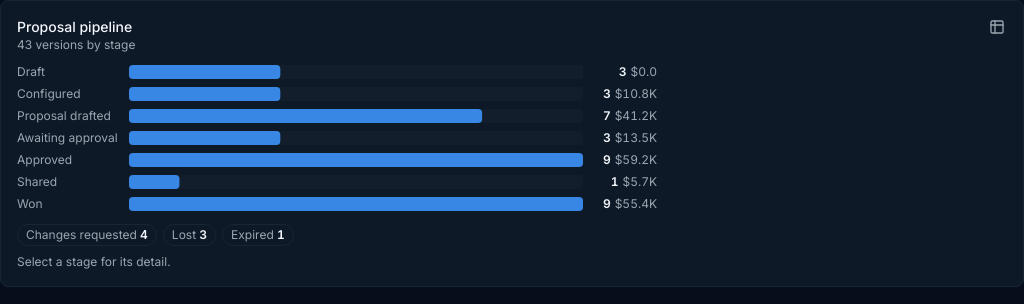
Test: StageFunnel › lists off-path outcomes as chips that can be selected
What coordinates should you click on to do the following:
click the button "Changes requested 4"
I would click on:
 (87, 235)
Its box is [17, 224, 157, 246].
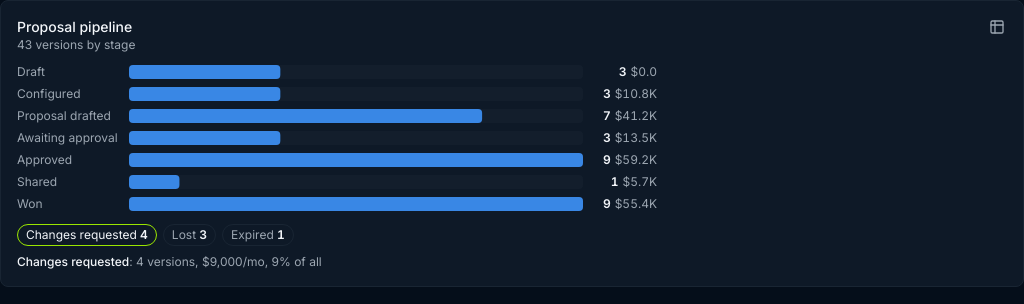
Result: the text "Changes requested: 4 versions, $9,000/mo, 9% of all" is shown at [17, 254, 322, 269]
